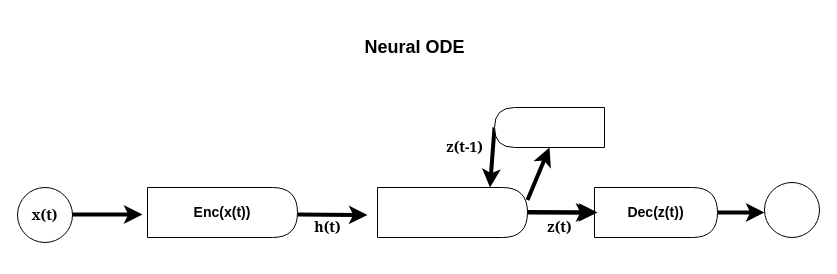
Some shapes in this 837 by 274 pixel diagram are drawn without their labels. Here are the shapes that lost their labels. From the top down, the box of each, then its label:
(494, 106, 604, 148): delay
(764, 182, 820, 238): y(t)
